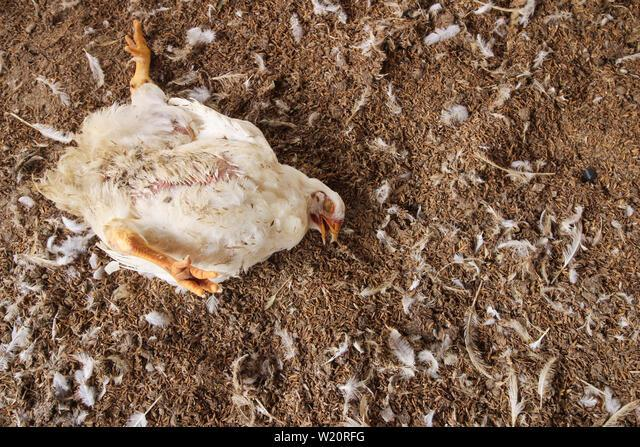AbNormal: (45, 13, 378, 331)
